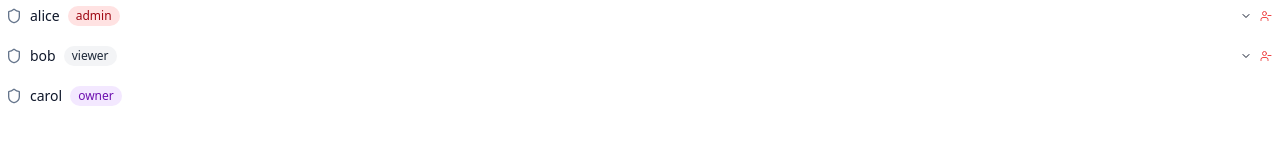
Scenario: OrgAccessControlWidget › shows role selector when edit button is clicked
Click the button with test id "edit-role-m2": (1246, 56) x1=1238 y1=48 x2=1254 y2=64
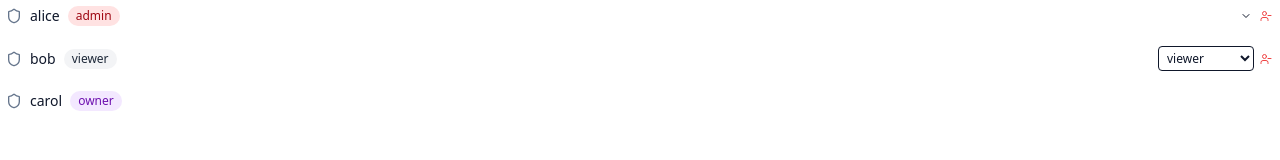
Check: the dropdown with test id "role-select-m2" is shown, box x1=1158 y1=46 x2=1254 y2=71
